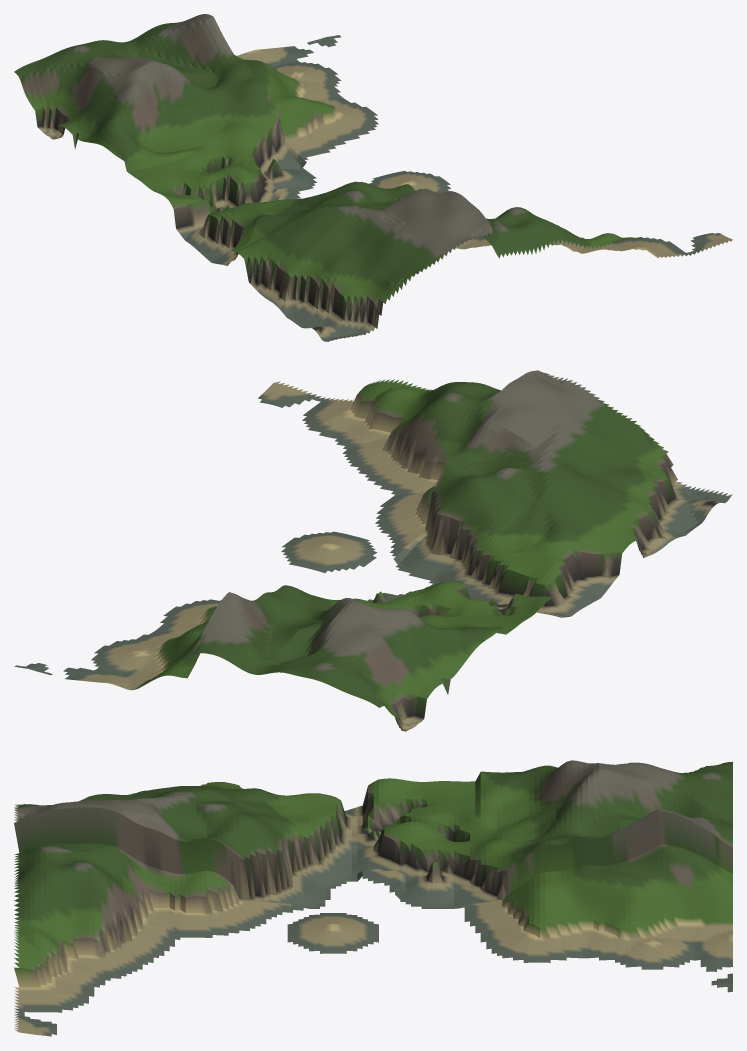
Rendered from coast_tile_x1z1.glb.
3 renders of one model, top to bottom at view 1: azimuth 30°, elevation 25°; view 2: azimuth 150°, elevation 25°; view 3: azimuth 270°, elevation 25°, orthographic. The views are drawn at different scales.
Parts seen in each view (by area): view 1: geometry_0; view 2: geometry_0; view 3: geometry_0.
Boxes of the visible parts, x1=… form: geometry_0: x1=14, y1=14, x2=732, y2=341; geometry_0: x1=14, y1=370, x2=732, y2=731; geometry_0: x1=14, y1=760, x2=732, y2=1036.
Size of the model in its own units: 600 by 126 by 804.
